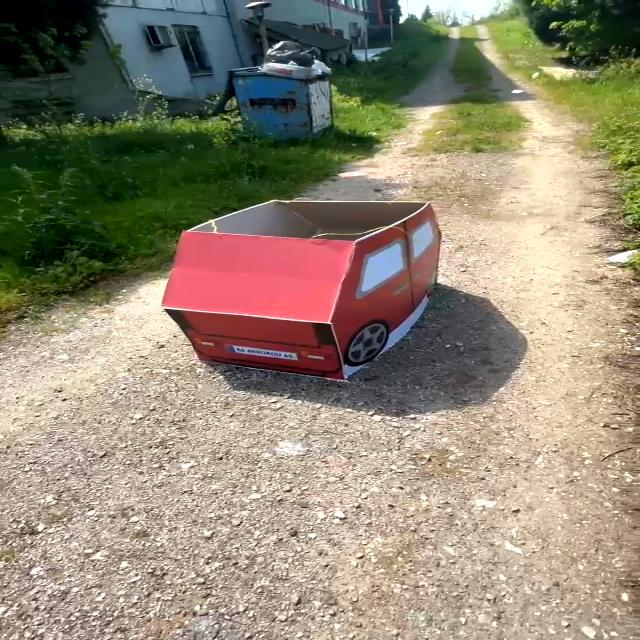red_car: (133, 162, 466, 402)
